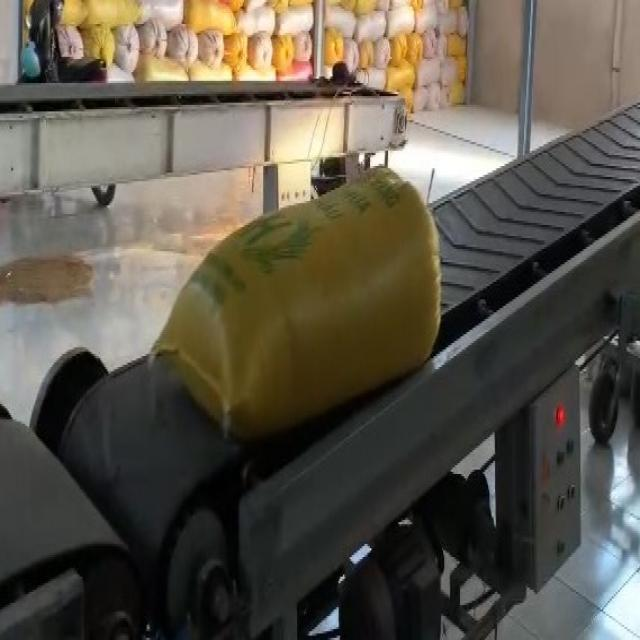gunny_bag: (154, 168, 441, 438)
